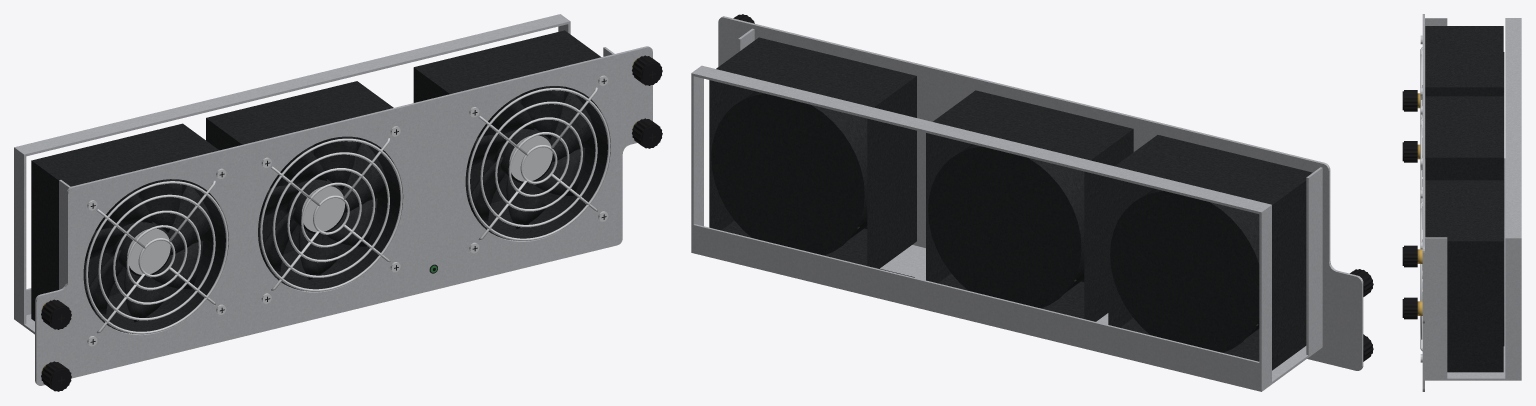
File: PA-3200-FAN-TRAY.glb
3 renders of one model, left to right at view 1: azimuth 30°, elevation 25°; view 2: azimuth 150°, elevation 25°; view 3: azimuth 270°, elevation 25°, orthographic. The views are drawn at different scales.
Visible parts, largest first — view 1: Fan_Tray; view 2: Fan_Tray; view 3: Fan_Tray.
Boxes of the visible parts, x1=… form: Fan_Tray: x1=14, y1=14, x2=662, y2=391; Fan_Tray: x1=691, y1=14, x2=1373, y2=391; Fan_Tray: x1=1402, y1=14, x2=1521, y2=391.
Bounding box in the file's own units: 0.285 × 0.0842 × 0.0578.
Materials: 10 (2 with a texture image).
